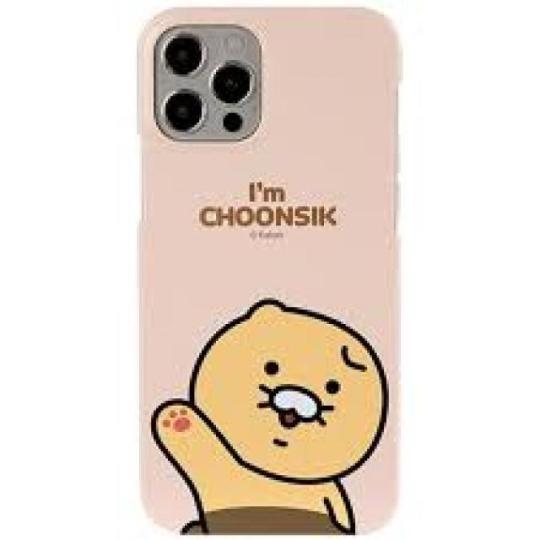phone: (128, 7, 405, 534)
